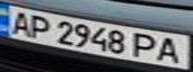2: (51, 17, 75, 47)
4: (90, 25, 112, 52)
8: (106, 27, 130, 56)
9: (69, 20, 93, 48)
A: (154, 35, 187, 64), (3, 7, 36, 36)
P: (130, 30, 163, 60), (24, 12, 54, 39)
